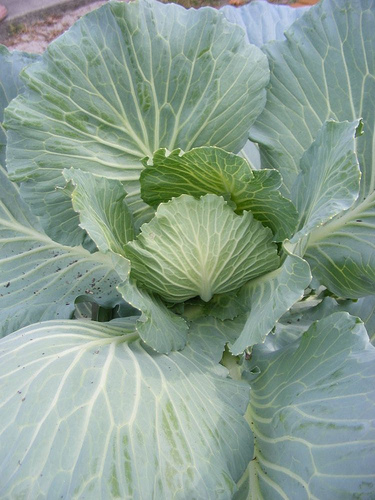cabbage: (2, 0, 373, 498)
